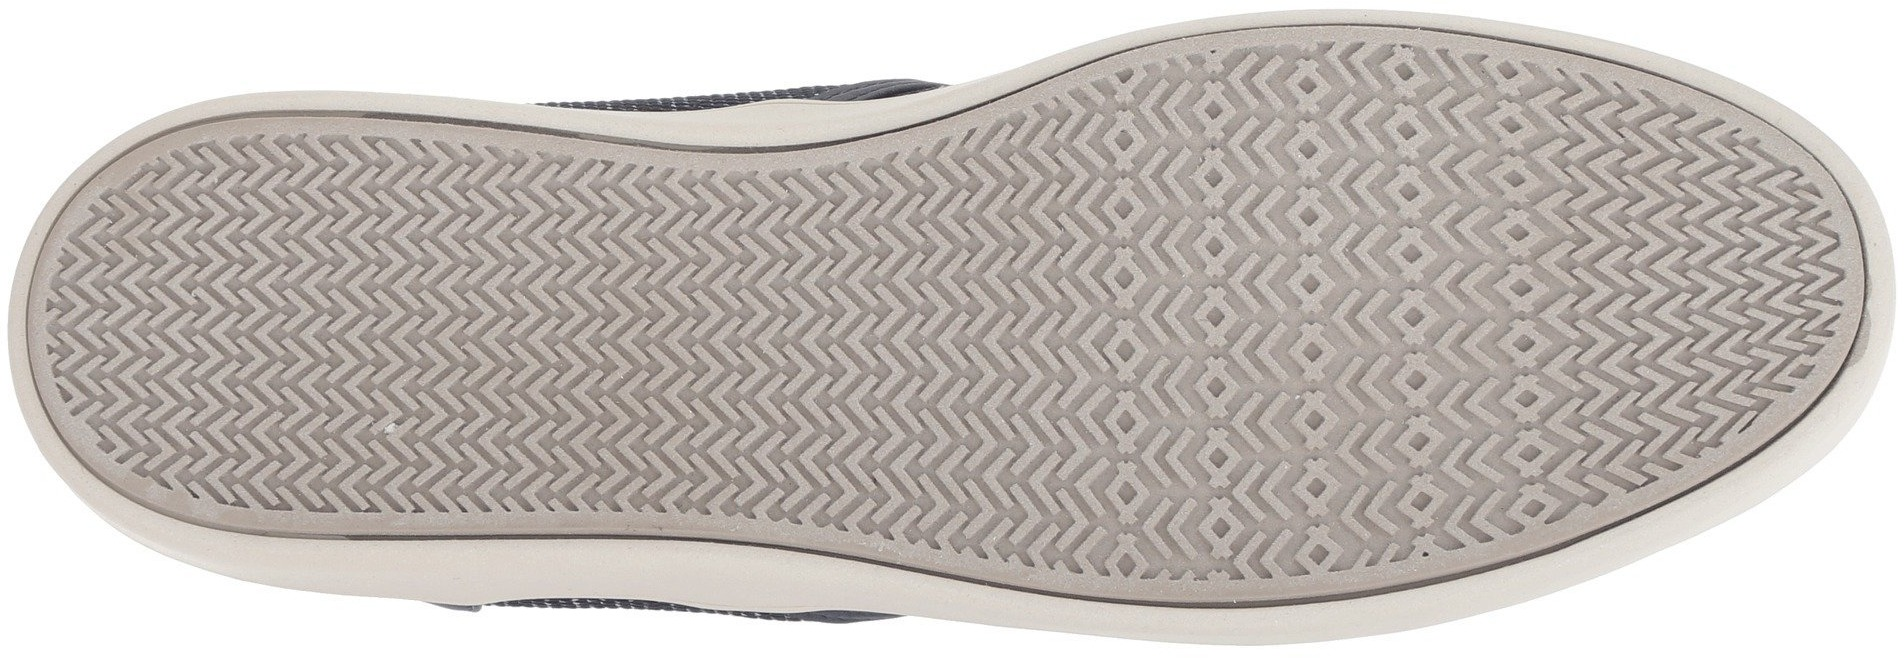chevron: (573, 181, 834, 450), (291, 174, 565, 425), (1115, 305, 1376, 562), (844, 161, 1094, 415), (86, 208, 290, 426), (1107, 83, 1308, 300), (1326, 86, 1525, 295), (1536, 98, 1723, 282), (1383, 318, 1549, 501), (1560, 294, 1723, 458), (973, 422, 1105, 554), (1732, 198, 1848, 328)
quad: (1179, 287, 1247, 569), (1103, 321, 1149, 578), (1190, 84, 1246, 284), (1098, 98, 1147, 310)
